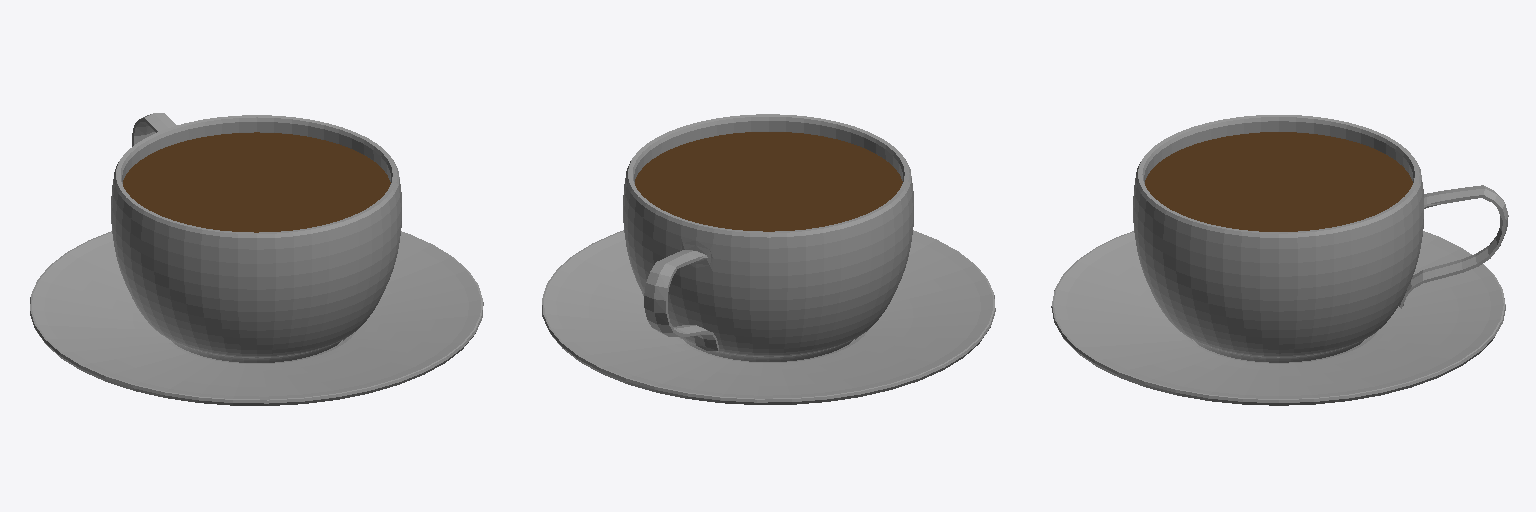
The model's file is coffee.obj.
3 views of the same model, side by side, from view 1: azimuth 30°, elevation 25°; view 2: azimuth 150°, elevation 25°; view 3: azimuth 270°, elevation 25° (orthographic).
Bounding box in the file's own units: 14.13 × 5.61 × 14.21.